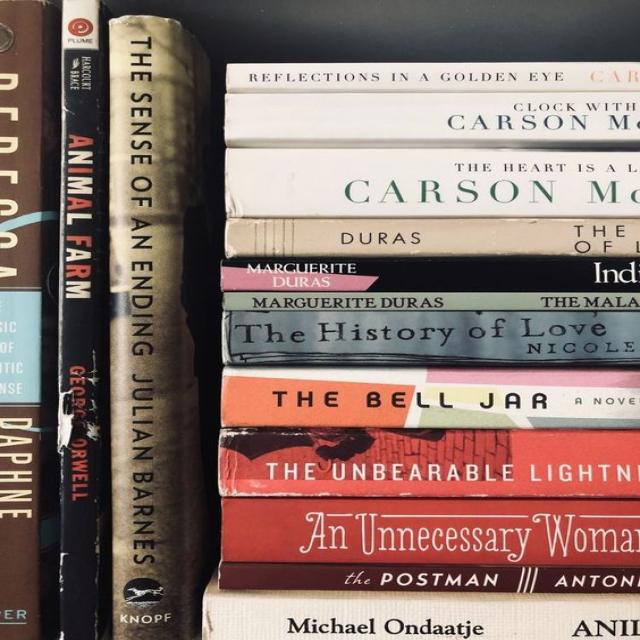book: (114, 19, 192, 639), (0, 0, 57, 639), (59, 0, 108, 639), (220, 430, 640, 496), (220, 500, 640, 566), (203, 582, 639, 639), (223, 147, 640, 204), (223, 369, 640, 425), (223, 308, 640, 360), (225, 98, 640, 144), (226, 218, 639, 257), (224, 260, 639, 292), (226, 62, 639, 93), (218, 562, 639, 592), (229, 292, 640, 309)
